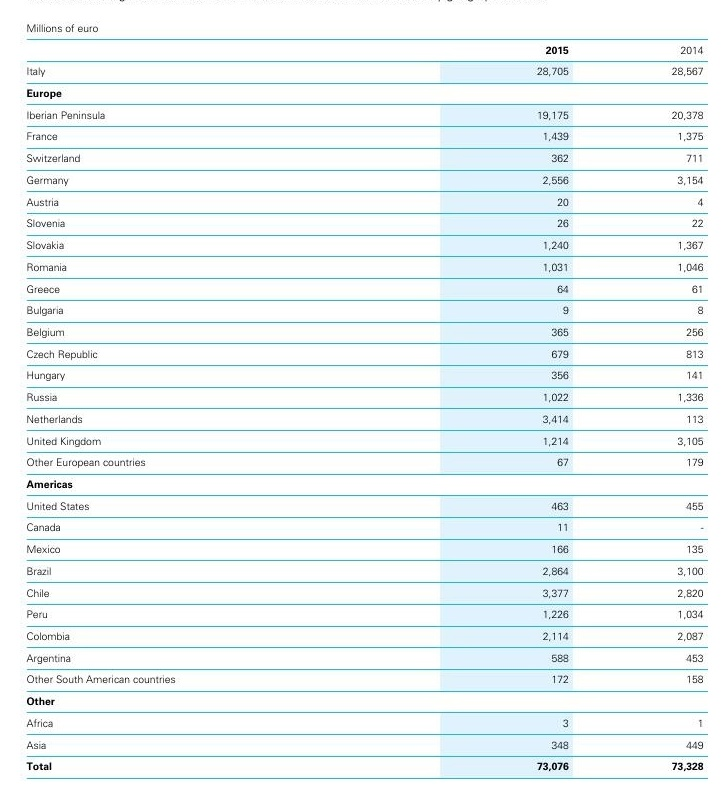table: (0, 0, 725, 792)
